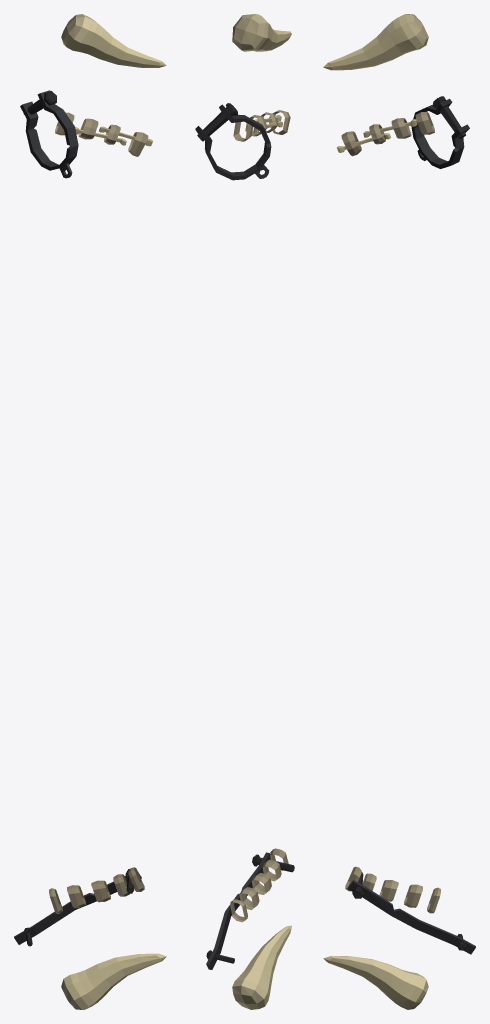
File: largeBowFearlessTip.glb
The picture shows the model from 3 angles, left to right: view 1: azimuth 90°, elevation 25°; view 2: azimuth 150°, elevation 25°; view 3: azimuth 270°, elevation 25°; orthographic projection.
Visible parts, largest first — view 1: largeBowFearlessTip; view 2: largeBowFearlessTip; view 3: largeBowFearlessTip.
Part boxes in pixels (left/top/right/bottom): largeBowFearlessTip: left=14, top=14, right=166, bottom=1009; largeBowFearlessTip: left=195, top=14, right=294, bottom=1009; largeBowFearlessTip: left=323, top=14, right=475, bottom=1009.
Bounding box in the file's own units: 0.1331 × 2.26 × 0.3148.
